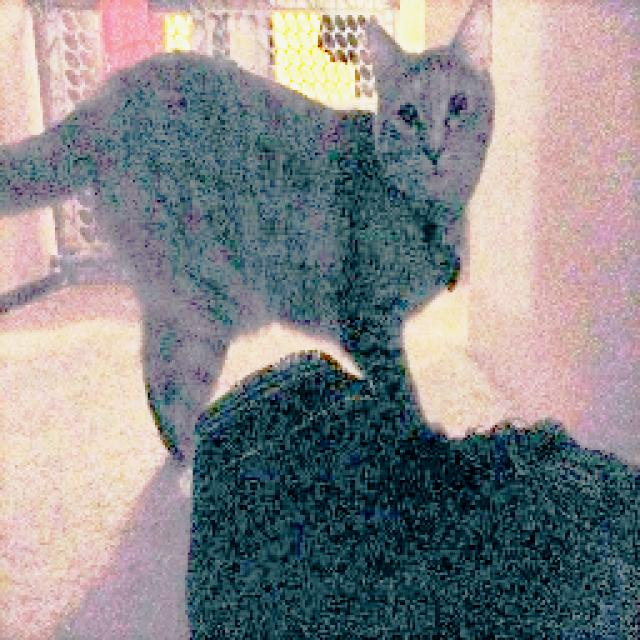cat: (1, 0, 511, 477)
